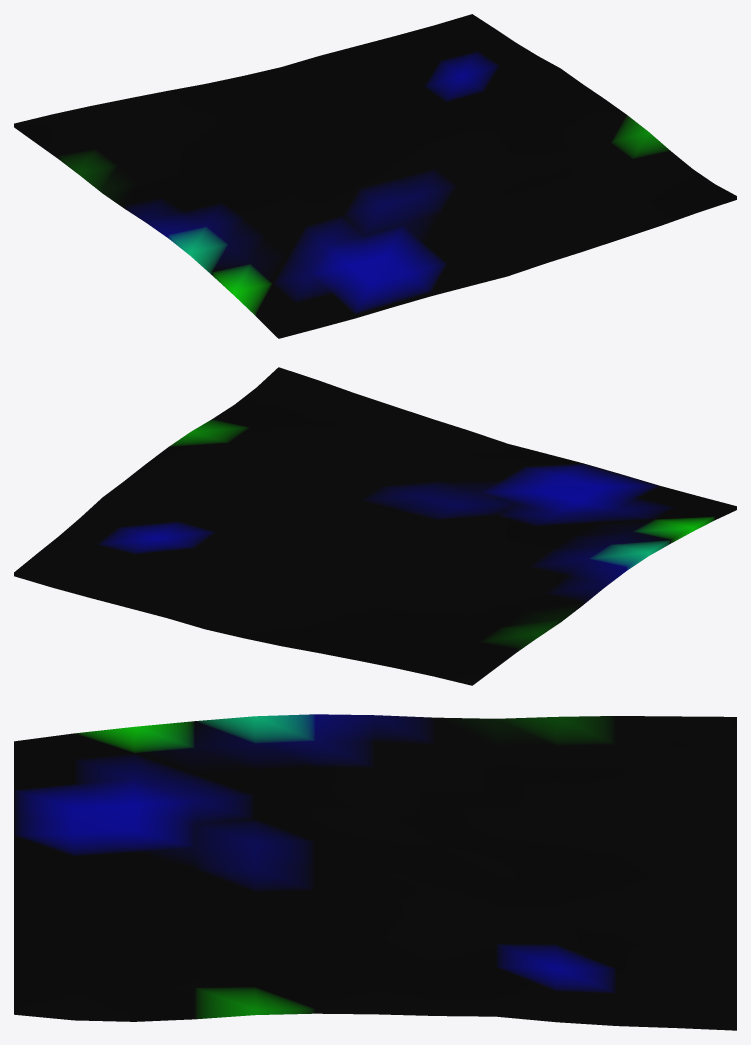
Rendered from coast_4_3.glb.
3 renders of one model, top to bottom at view 1: azimuth 30°, elevation 25°; view 2: azimuth 150°, elevation 25°; view 3: azimuth 270°, elevation 25°, orthographic. The views are drawn at different scales.
Parts seen in each view (by area): view 1: terrain; view 2: terrain; view 3: terrain.
Boxes of the visible parts, <box> form: terrain: <box>14,14,736,338</box>; terrain: <box>14,367,736,685</box>; terrain: <box>14,714,736,1030</box>.
Bounding box in the file's own units: 192 × 12.72 × 192.
